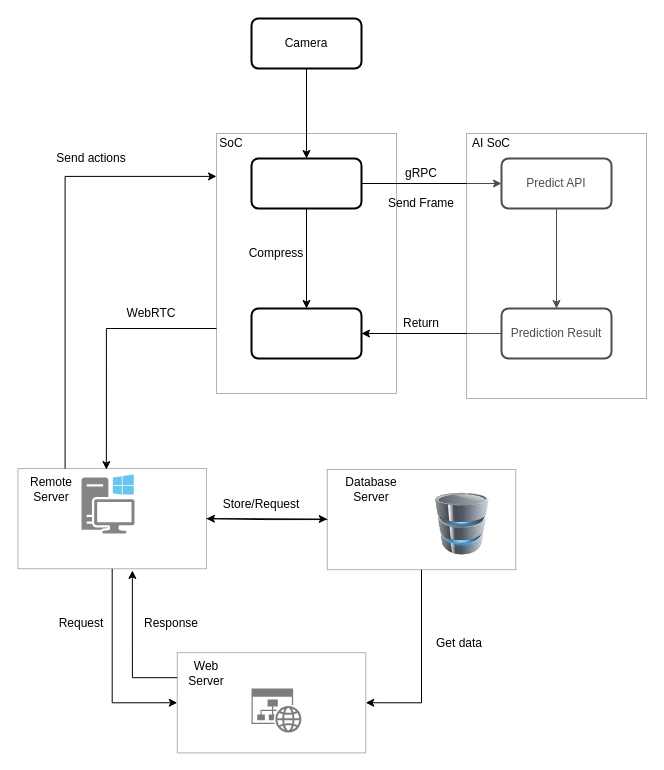
This 664x770 diagram has some shape labels left out. The centre of each missing label's shape, as x and y in pixels:
Compressed Frame and Result: (306,333)
Received Frame: (306,183)
